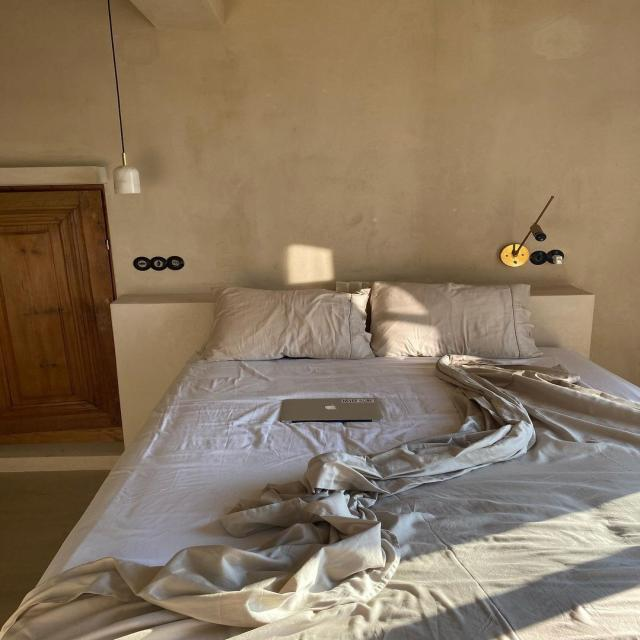bed: (94, 288, 625, 622)
